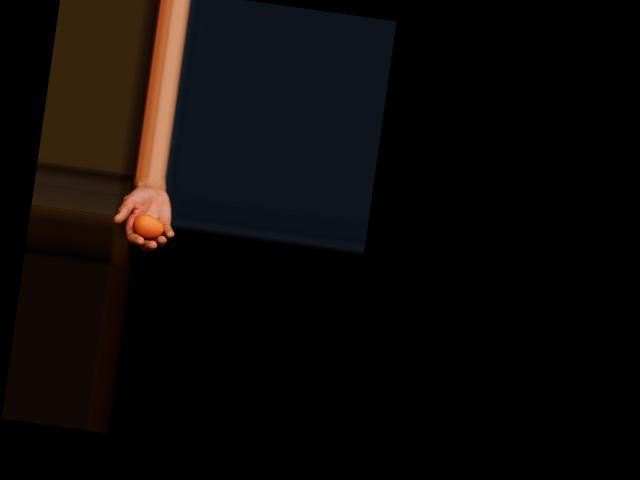egg: (131, 213, 166, 240)
